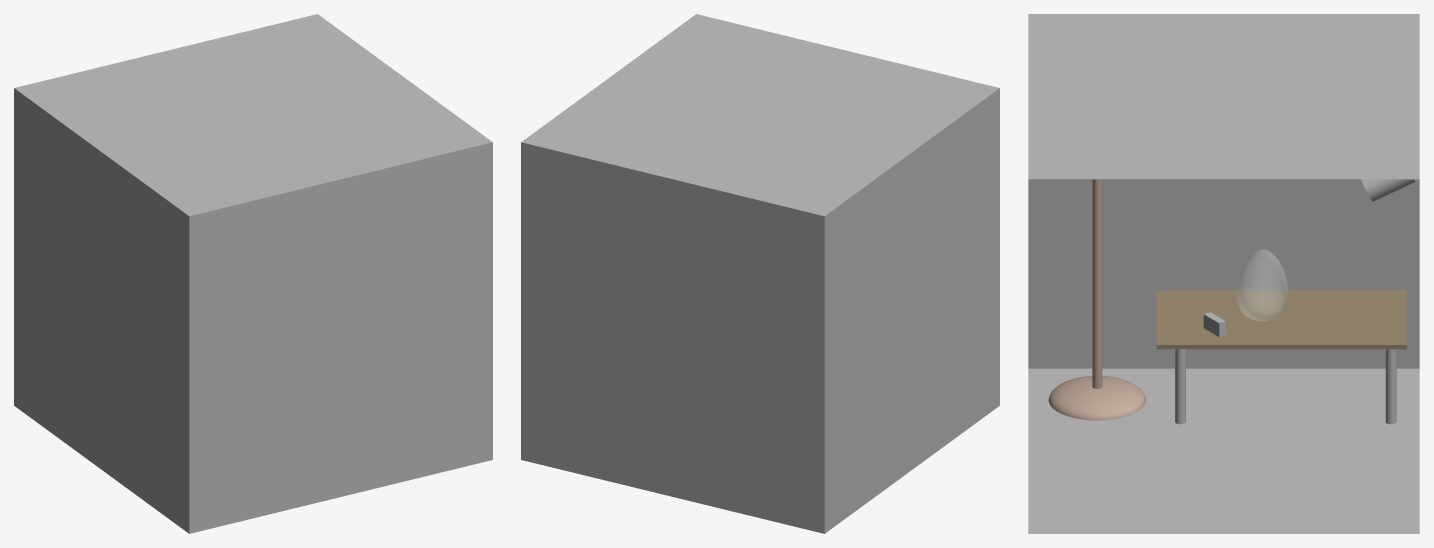
File: veach-bidir.gltf
3 views of the same model, side by side, from view 1: azimuth 30°, elevation 25°; view 2: azimuth 150°, elevation 25°; view 3: azimuth 270°, elevation 25° (orthographic). The views are drawn at different scales.
Parts seen in each view (by area): view 1: Room; view 2: Room; view 3: Room, Table, Lamp, Egg, Table Leg, Table Leg.003, Light Shell.
Part boxes in pixels (x1,y1,x2,y2): Room: (14, 14, 492, 533); Room: (521, 14, 999, 533); Room: (1028, 14, 1419, 533); Table: (1156, 290, 1406, 349); Lamp: (1048, 179, 1145, 420); Egg: (1237, 249, 1287, 320); Table Leg: (1385, 349, 1396, 424); Table Leg.003: (1175, 349, 1185, 424); Light Shell: (1361, 179, 1416, 201).
Bounding box in the file's own units: 8 × 8.1 × 8.
